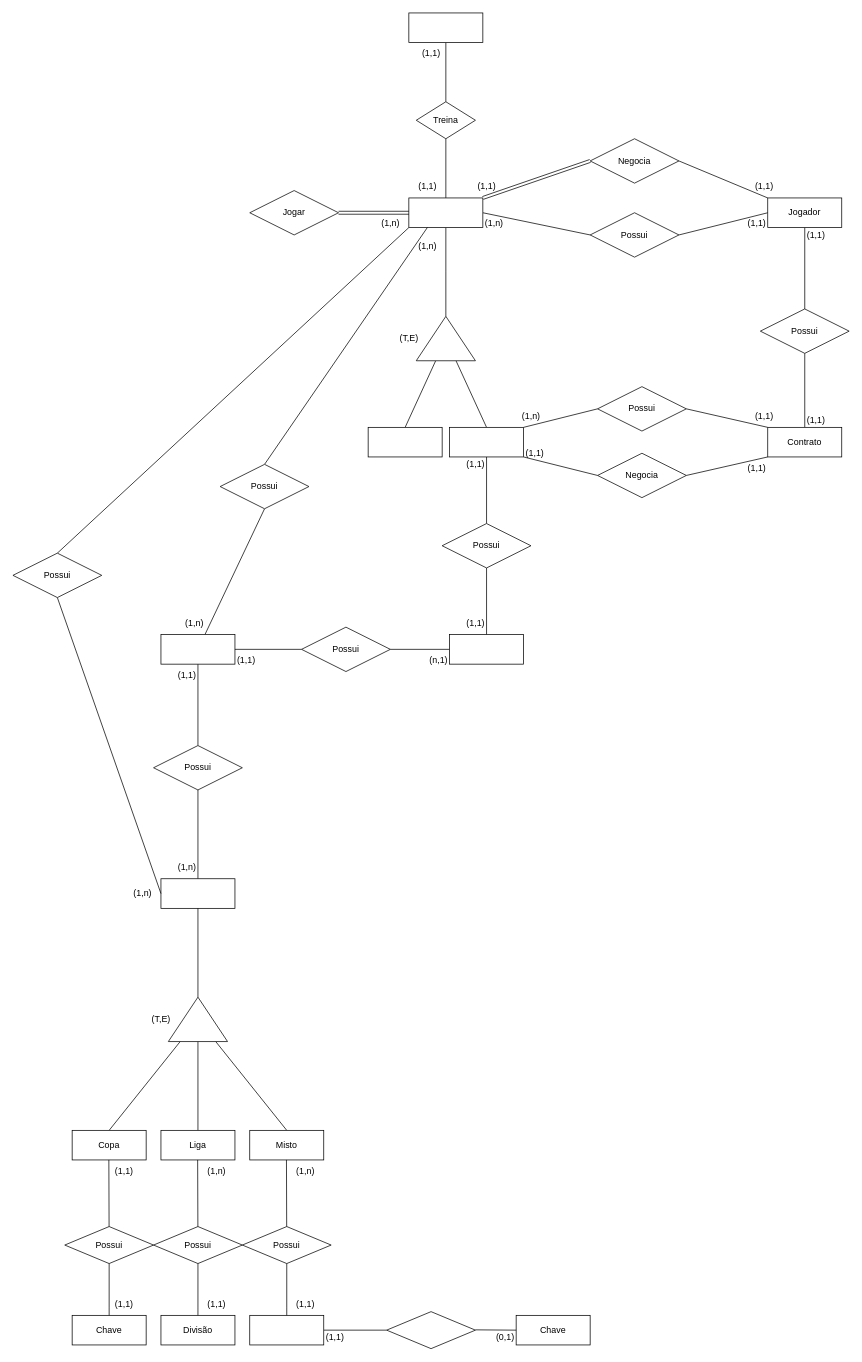
The diagram is 862 pixels wide and 1362 high, and some of its shapes have lost their labels. Here are the shapes that lost their labels. From the top down, the box of each, then its label:
(408, 12, 483, 43): Técnico
(408, 197, 483, 228): Time
(367, 427, 442, 457): Seleção
(449, 427, 524, 457): Clube
(160, 634, 235, 664): Partida
(449, 634, 524, 664): Estádio
(160, 878, 235, 908): Campeonato
(249, 1315, 324, 1345): Grupos
(386, 1311, 475, 1349): Definem
